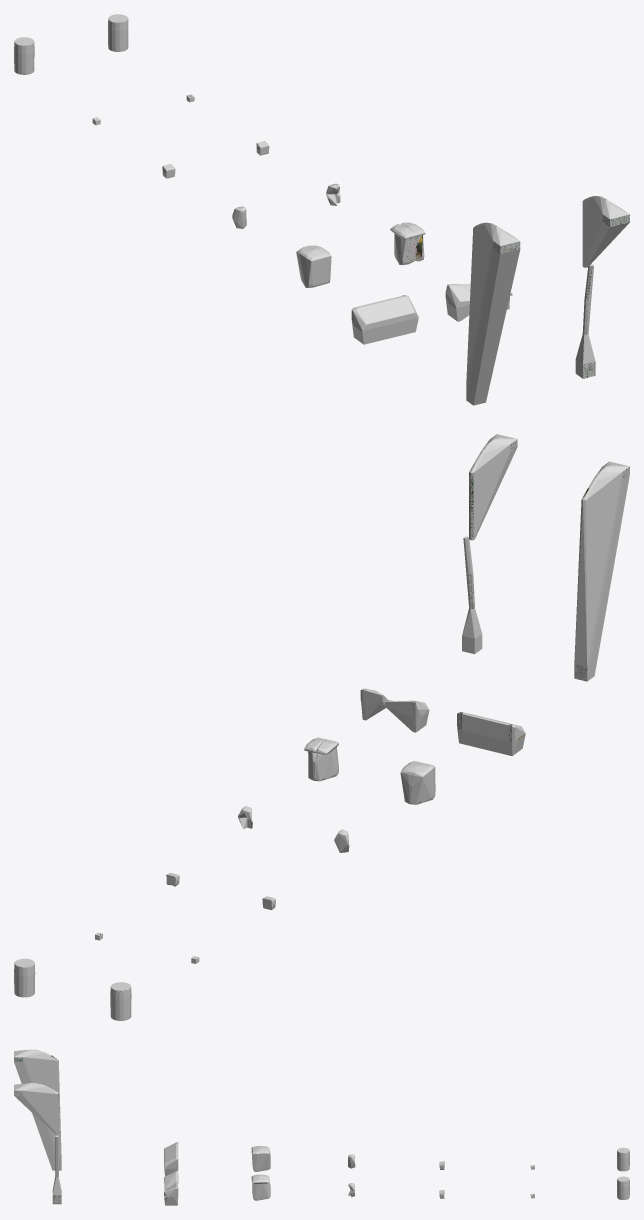
File: breakables.glb
3 renders of one model, top to bottom at view 1: azimuth 30°, elevation 25°; view 2: azimuth 150°, elevation 25°; view 3: azimuth 270°, elevation 25°, orthographic. The views are drawn at different scales.
Parts seen in each view (by area): view 1: col_brk_lightpost_intact_mesh, col_brk_bench_intact_mesh, col_brk_lightpost_chunk_top, col_brk_trashbin_intact_mesh, col_brk_bench_chunk_left, col_brk_barrel_intact_mesh, col_brk_lightpost_chunk_stump, col_brk_trashbin_chunk_0; view 2: col_brk_lightpost_intact_mesh, col_brk_lightpost_chunk_top, col_brk_bench_intact_mesh, col_brk_trashbin_intact_mesh, col_brk_bench_chunk_left, col_brk_barrel_intact_mesh; view 3: col_brk_lightpost_intact_mesh, col_brk_lightpost_chunk_top, col_brk_trashbin_intact_mesh, col_brk_bench_intact_mesh, col_brk_trashbin_chunk_1, col_brk_barrel_intact_mesh, col_brk_bench_chunk_right.
Boxes of the visible parts, x1,y1,x2,y2 form: col_brk_lightpost_intact_mesh: [466, 222, 520, 405]; col_brk_bench_intact_mesh: [351, 295, 418, 344]; col_brk_lightpost_chunk_top: [582, 196, 629, 267]; col_brk_trashbin_intact_mesh: [296, 245, 331, 287]; col_brk_bench_chunk_left: [445, 284, 470, 321]; col_brk_barrel_intact_mesh: [14, 37, 34, 74]; col_brk_lightpost_chunk_stump: [575, 334, 595, 378]; col_brk_trashbin_chunk_0: [394, 233, 415, 264]; col_brk_lightpost_intact_mesh: [574, 461, 629, 681]; col_brk_lightpost_chunk_top: [469, 434, 517, 540]; col_brk_bench_intact_mesh: [457, 712, 525, 755]; col_brk_trashbin_intact_mesh: [400, 761, 435, 804]; col_brk_bench_chunk_left: [384, 700, 429, 732]; col_brk_barrel_intact_mesh: [110, 982, 131, 1020]; col_brk_lightpost_intact_mesh: [14, 1049, 61, 1170]; col_brk_lightpost_chunk_top: [14, 1083, 58, 1135]; col_brk_trashbin_intact_mesh: [251, 1146, 270, 1171]; col_brk_bench_intact_mesh: [164, 1142, 178, 1176]; col_brk_trashbin_chunk_1: [252, 1182, 270, 1200]; col_brk_barrel_intact_mesh: [617, 1147, 629, 1171]; col_brk_bench_chunk_right: [164, 1182, 178, 1205].
Bounding box in the file's own units: 4.8 × 5.8 × 27.19.
5 materials, 4 textured.
